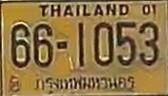0: (93, 21, 113, 65)
1: (78, 22, 83, 66)
3: (138, 21, 158, 65)
5: (116, 21, 136, 65)
6: (10, 23, 29, 67), (34, 24, 52, 66)
BKK: (34, 74, 137, 92)
